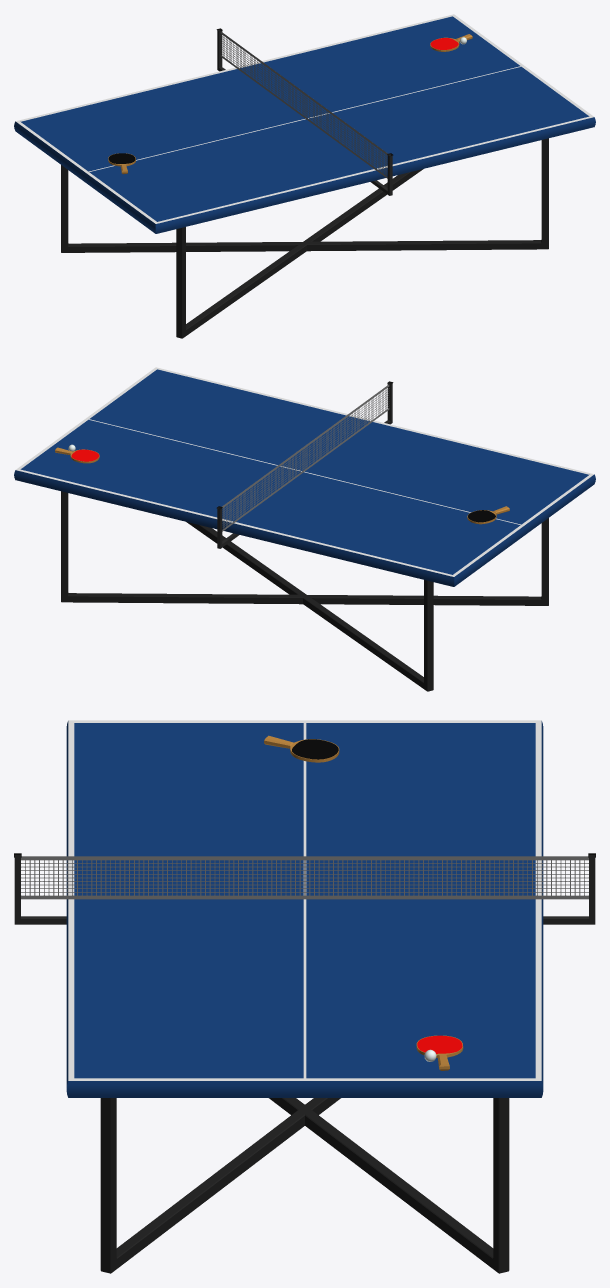
The model's file is Ping_Pong_Table.FBX.
The picture shows the model from 3 angles, top to bottom: view 1: azimuth 30°, elevation 25°; view 2: azimuth 150°, elevation 25°; view 3: azimuth 270°, elevation 25°; orthographic projection. The views are drawn at different scales.
Parts seen in each view (by area): view 1: Table; view 2: Table, Racket_1, Racket_003; view 3: Table, Racket_003, Racket_1.
Part boxes in pixels (<box>): Table: <box>14,14,595,338</box>; Table: <box>14,367,595,691</box>; Racket_1: <box>55,447,99,463</box>; Racket_003: <box>467,506,509,524</box>; Table: <box>14,720,595,1273</box>; Racket_003: <box>264,735,339,762</box>; Racket_1: <box>416,1035,463,1070</box>.
Size of the model in its own units: 275 by 94.17 by 187.
